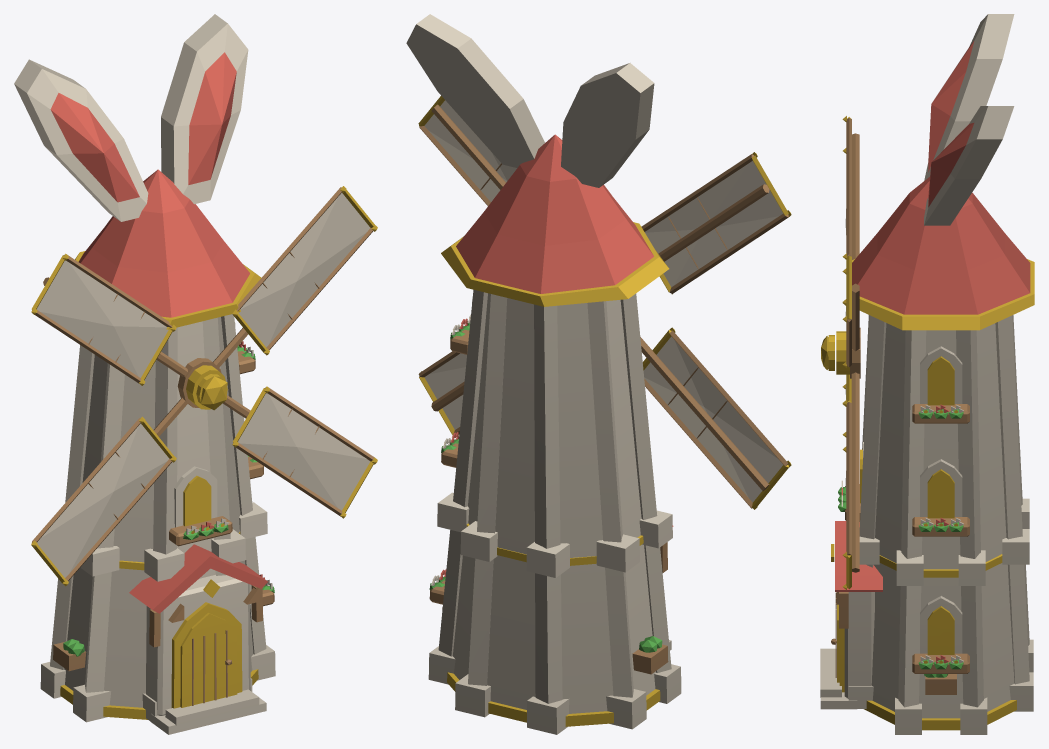
The model's file is windmill.glb.
The picture shows the model from 3 angles, left to right: view 1: azimuth 30°, elevation 25°; view 2: azimuth 150°, elevation 25°; view 3: azimuth 270°, elevation 25°; orthographic projection. The views are drawn at different scales.
Parts seen in each view (by area): view 1: root_mesh, wheel0_mesh, ears1_mesh, ears0_mesh; view 2: root_mesh, wheel0_mesh, ears1_mesh, ears0_mesh; view 3: root_mesh, wheel0_mesh, ears0_mesh, ears1_mesh.
Boxes of the visible parts, x1=… form: root_mesh: x1=40, y1=169, x2=275, y2=734; wheel0_mesh: x1=31, y1=186, x2=377, y2=586; ears1_mesh: x1=161, y1=14, x2=248, y2=204; ears0_mesh: x1=14, y1=59, x2=148, y2=221; root_mesh: x1=428, y1=134, x2=681, y2=734; wheel0_mesh: x1=418, y1=96, x2=791, y2=509; ears1_mesh: x1=406, y1=14, x2=544, y2=167; ears0_mesh: x1=561, y1=63, x2=654, y2=187; root_mesh: x1=820, y1=177, x2=1034, y2=734; wheel0_mesh: x1=821, y1=116, x2=860, y2=589; ears0_mesh: x1=924, y1=14, x2=1014, y2=180; ears1_mesh: x1=924, y1=106, x2=1014, y2=225.
Bounding box in the file's own units: 5.3 × 9.05 × 2.8.
